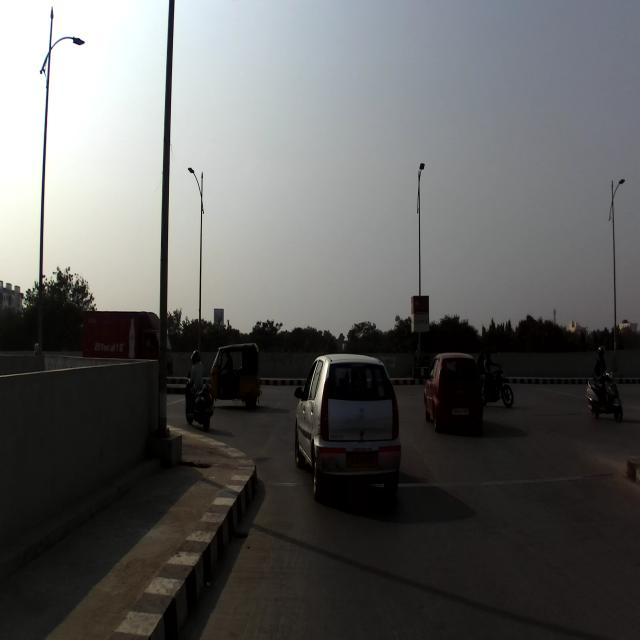car ahead at: (295, 342, 400, 504), (423, 346, 488, 428)
